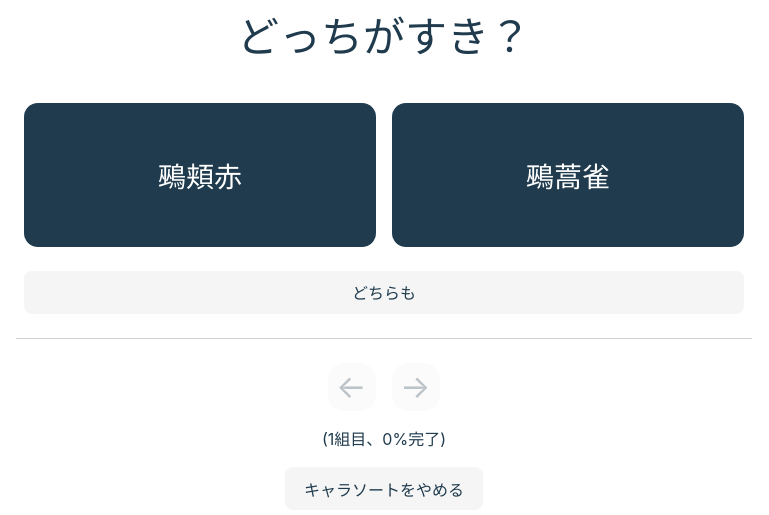
Test: キャラ選択、諸情報 › キャラA
expect the text "(1組目、0%完了)" is shown: met, box left=322, top=427, right=446, bottom=451
Click the button "鵐頬赤" at (200,175), box left=24, top=103, right=376, bottom=247
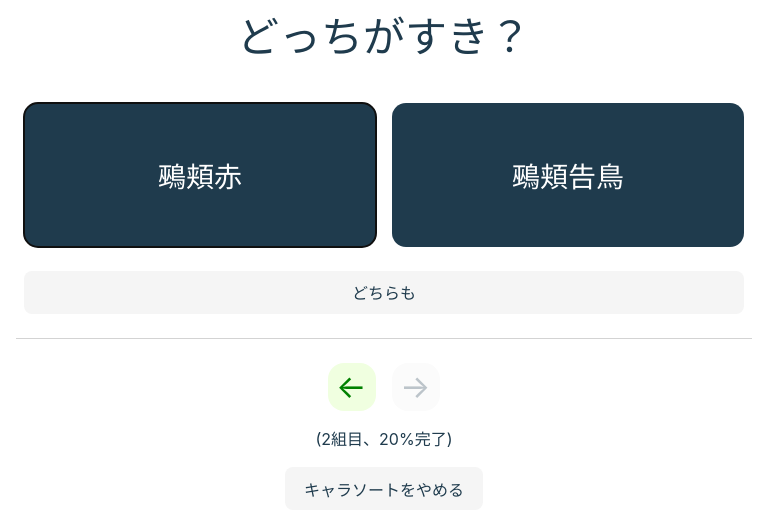
expect the text "(2組目、20%完了)" is shown: met, box left=316, top=427, right=452, bottom=451
expect the button "鵐頬告鳥" is shown: met, box left=392, top=103, right=744, bottom=247
